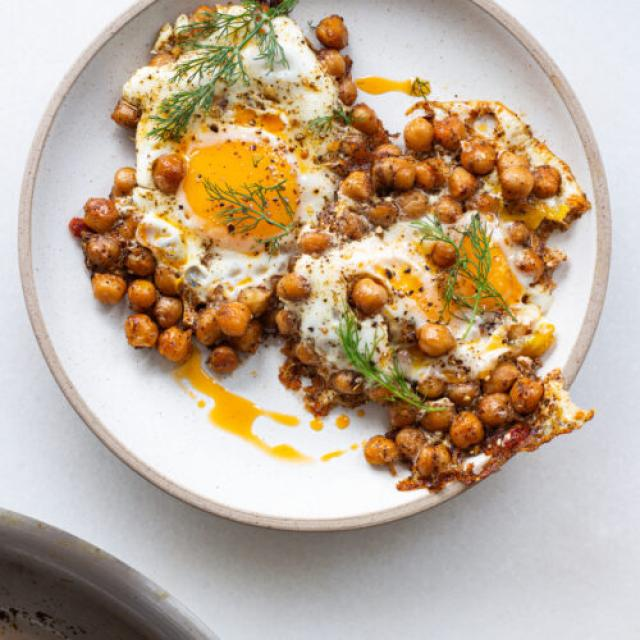Egg: (122, 16, 352, 347), (285, 211, 546, 408)
